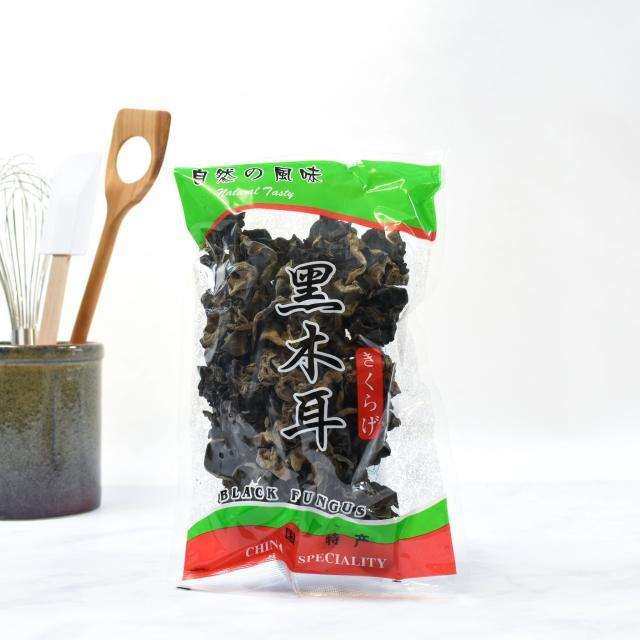Auricularia auricula: (199, 214, 411, 521)
